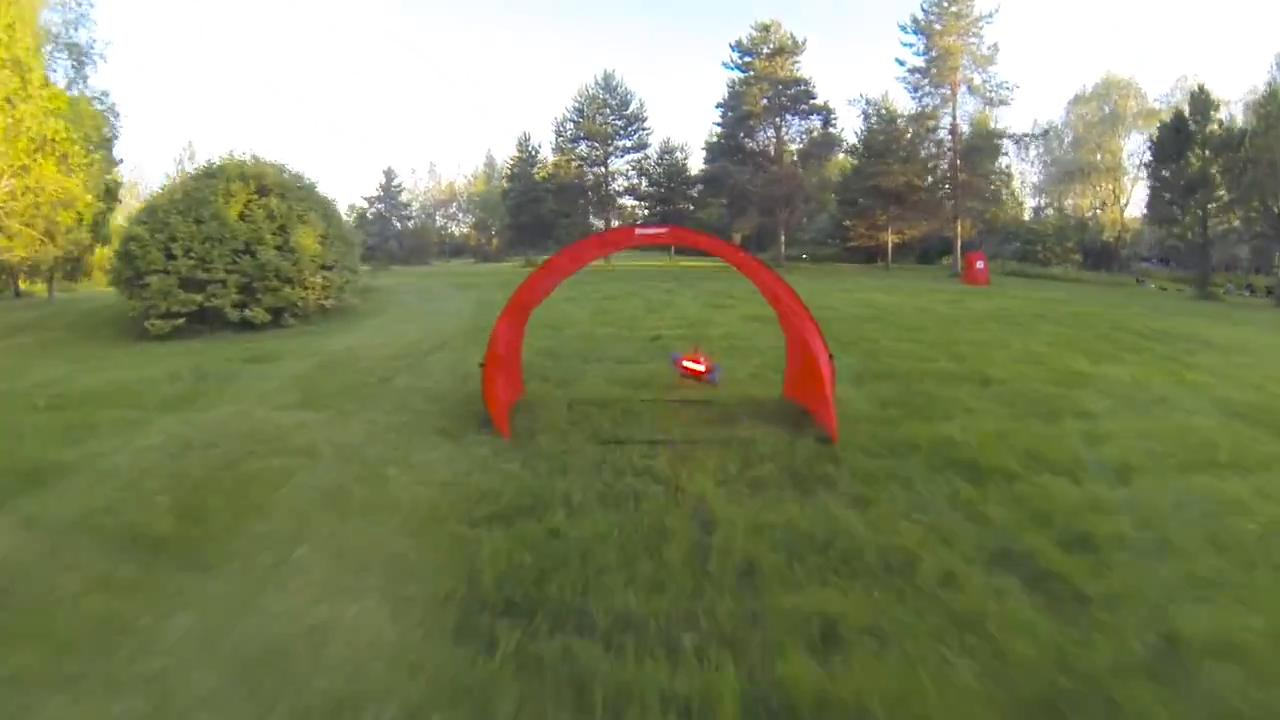gate: (470, 223, 841, 442)
